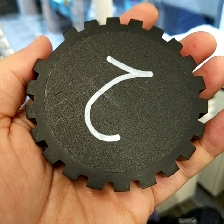gear: (23, 15, 209, 193)
missing: (31, 24, 79, 78)
